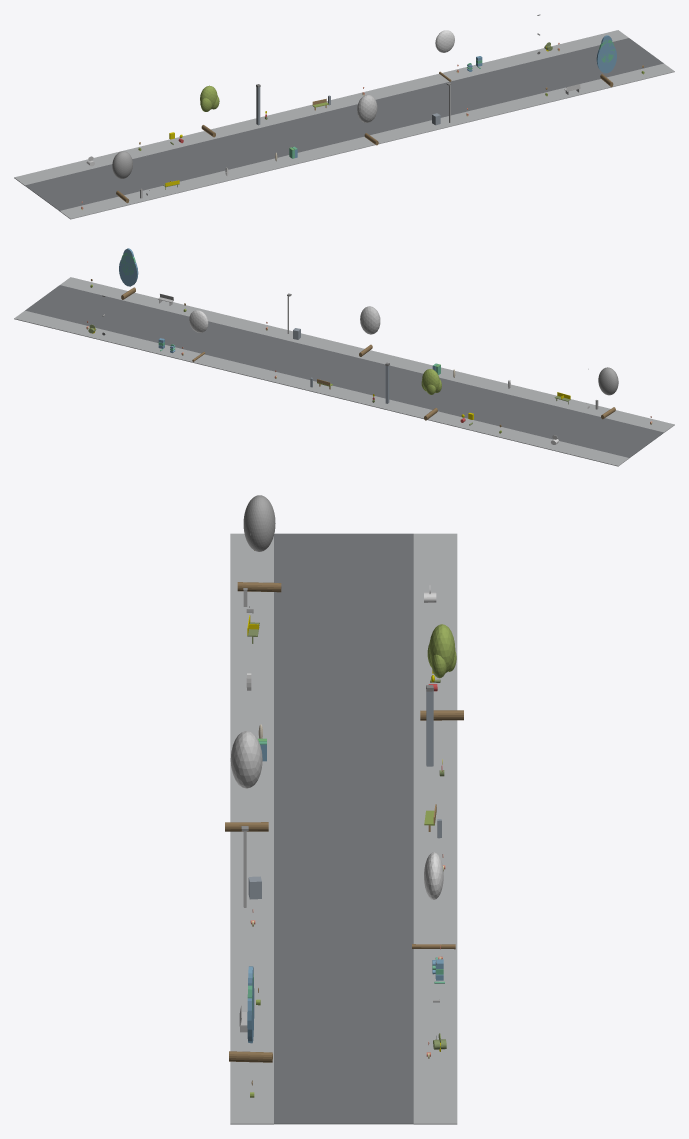
3 renders of one model, top to bottom at view 1: azimuth 30°, elevation 25°; view 2: azimuth 150°, elevation 25°; view 3: azimuth 270°, elevation 25°, orthographic. The views are drawn at different scales.
Visible parts, largest first — view 1: road_slab, sidewalk_left, sidewalk_right, inst_0016, inst_0014, inst_0012, inst_0013, inst_0015; view 2: road_slab, sidewalk_right, sidewalk_left, inst_0016, inst_0014, inst_0012, inst_0013, inst_0015; view 3: road_slab, sidewalk_right, sidewalk_left, inst_0012, inst_0014, inst_0013, inst_0016, inst_0015.
Boxes of the visible parts, x1=… form: road_slab: x1=25, y1=38, x2=663, y2=210; sidewalk_left: x1=59, y1=63, x2=674, y2=219; sidewalk_right: x1=14, y1=30, x2=628, y2=185; inst_0016: x1=596, y1=35, x2=616, y2=87; inst_0014: x1=357, y1=94, x2=378, y2=145; inst_0012: x1=112, y1=151, x2=132, y2=203; inst_0013: x1=200, y1=85, x2=219, y2=137; inst_0015: x1=435, y1=30, x2=454, y2=81; road_slab: x1=25, y1=285, x2=663, y2=457; sidewalk_right: x1=14, y1=310, x2=629, y2=466; sidewalk_left: x1=60, y1=277, x2=674, y2=432; inst_0016: x1=119, y1=248, x2=138, y2=299; inst_0014: x1=359, y1=306, x2=380, y2=356; inst_0012: x1=598, y1=367, x2=618, y2=419; inst_0013: x1=421, y1=369, x2=441, y2=420; inst_0015: x1=189, y1=310, x2=208, y2=361; road_slab: x1=274, y1=533, x2=413, y2=1124; sidewalk_right: x1=413, y1=533, x2=457, y2=1124; sidewalk_left: x1=230, y1=533, x2=273, y2=1124; inst_0012: x1=237, y1=495, x2=281, y2=592; inst_0014: x1=225, y1=731, x2=268, y2=831; inst_0013: x1=420, y1=624, x2=463, y2=720; inst_0016: x1=229, y1=966, x2=272, y2=1062; inst_0015: x1=412, y1=852, x2=455, y2=949.
Size of the model in its own units: 80 by 6.08 by 13.71.
